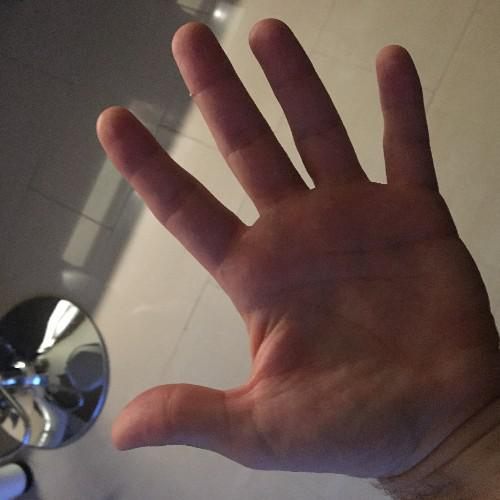paper: (90, 13, 497, 477)
